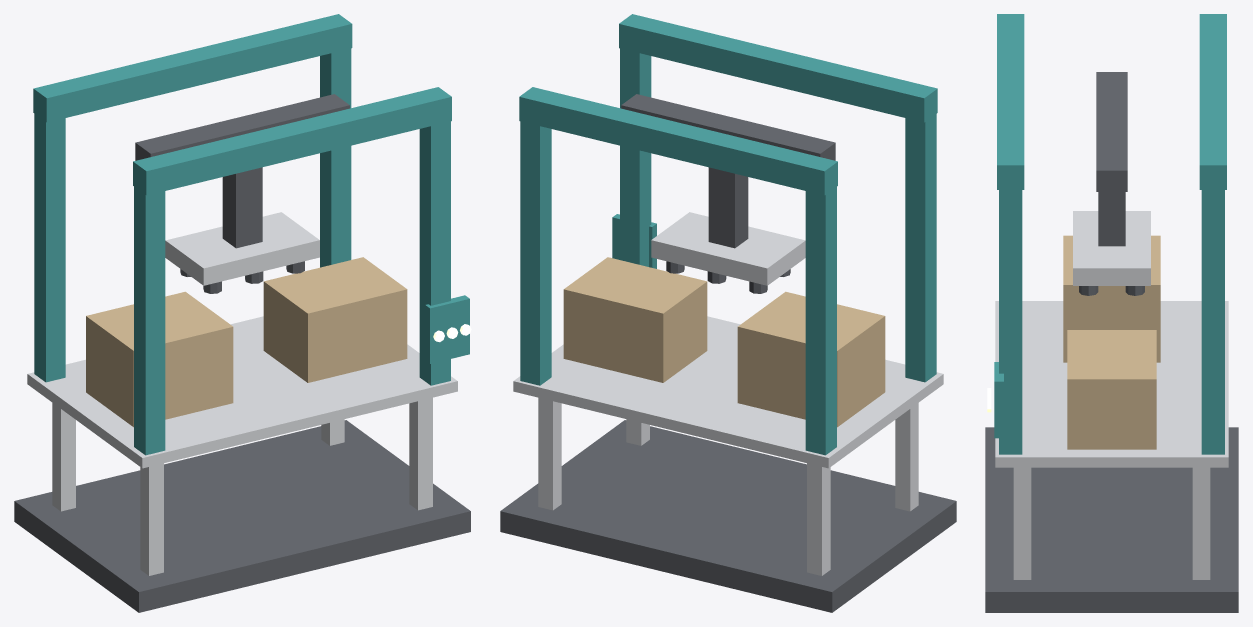
The model's file is chocolate-and-confectionery-factory-case-packer-902faf81__36786.glb.
The picture shows the model from 3 angles, left to right: view 1: azimuth 30°, elevation 25°; view 2: azimuth 150°, elevation 25°; view 3: azimuth 270°, elevation 25°; orthographic projection.
Visible parts, largest first — view 1: case-packer, arm-packer/dark, arm-packer/steel; view 2: case-packer, arm-packer/dark, arm-packer/steel; view 3: case-packer, arm-packer/dark, arm-packer/steel.
Part boxes in pixels (bbox=[...]): case-packer: bbox=[14, 14, 471, 612]; arm-packer/dark: bbox=[135, 94, 349, 293]; arm-packer/steel: bbox=[165, 212, 319, 285]; case-packer: bbox=[500, 14, 956, 612]; arm-packer/dark: bbox=[621, 94, 835, 293]; arm-packer/steel: bbox=[651, 212, 805, 285]; case-packer: bbox=[985, 14, 1238, 612]; arm-packer/dark: bbox=[1079, 72, 1144, 295]; arm-packer/steel: bbox=[1073, 211, 1150, 285].
Size of the model in its own units: 2.02 by 2.5 by 1.3.
